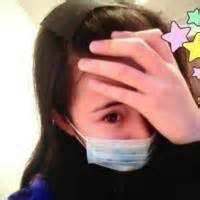WRONG: (71, 74, 173, 176)
